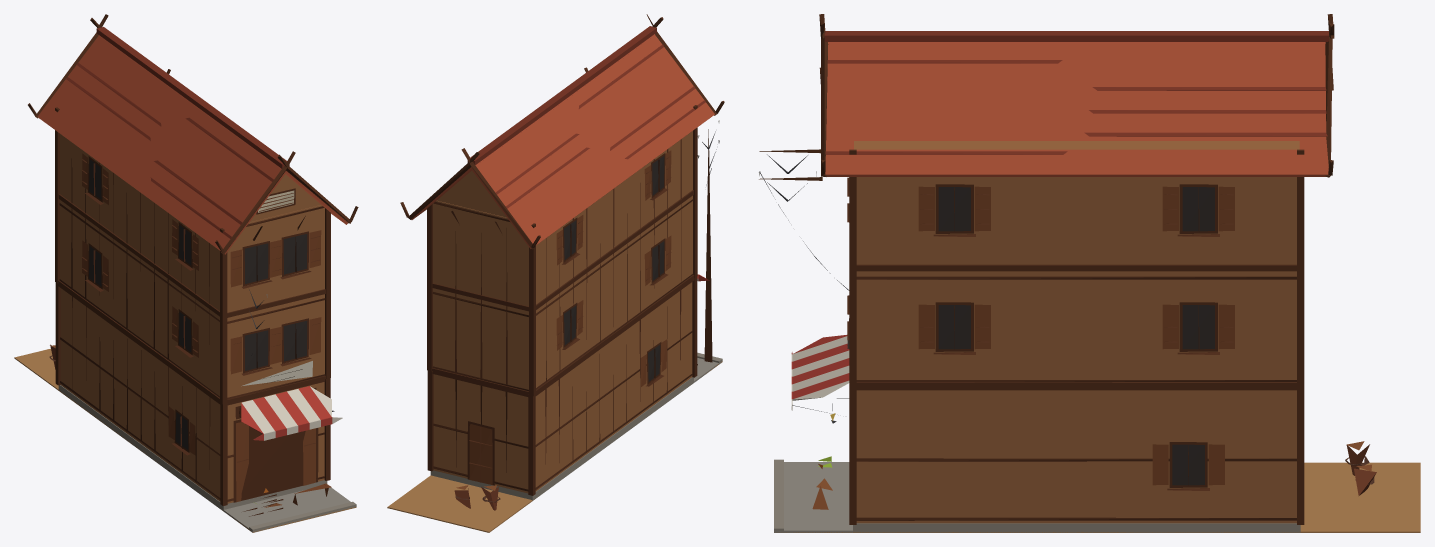
File: bay2_one.glb
The picture shows the model from 3 angles, left to right: view 1: azimuth 30°, elevation 25°; view 2: azimuth 150°, elevation 25°; view 3: azimuth 270°, elevation 25°; orthographic projection. The views are drawn at different scales.
Visible parts, largest first — view 1: body, windows; view 2: body, windows; view 3: body, windows.
Part boxes in pixels (bbox=[...]): body: bbox=[14, 14, 358, 532]; windows: bbox=[89, 159, 307, 449]; body: bbox=[387, 14, 724, 532]; windows: bbox=[564, 155, 664, 381]; body: bbox=[758, 14, 1420, 532]; windows: bbox=[830, 187, 1214, 485].
Size of the model in its own units: 5.53 by 13.16 by 16.4.
